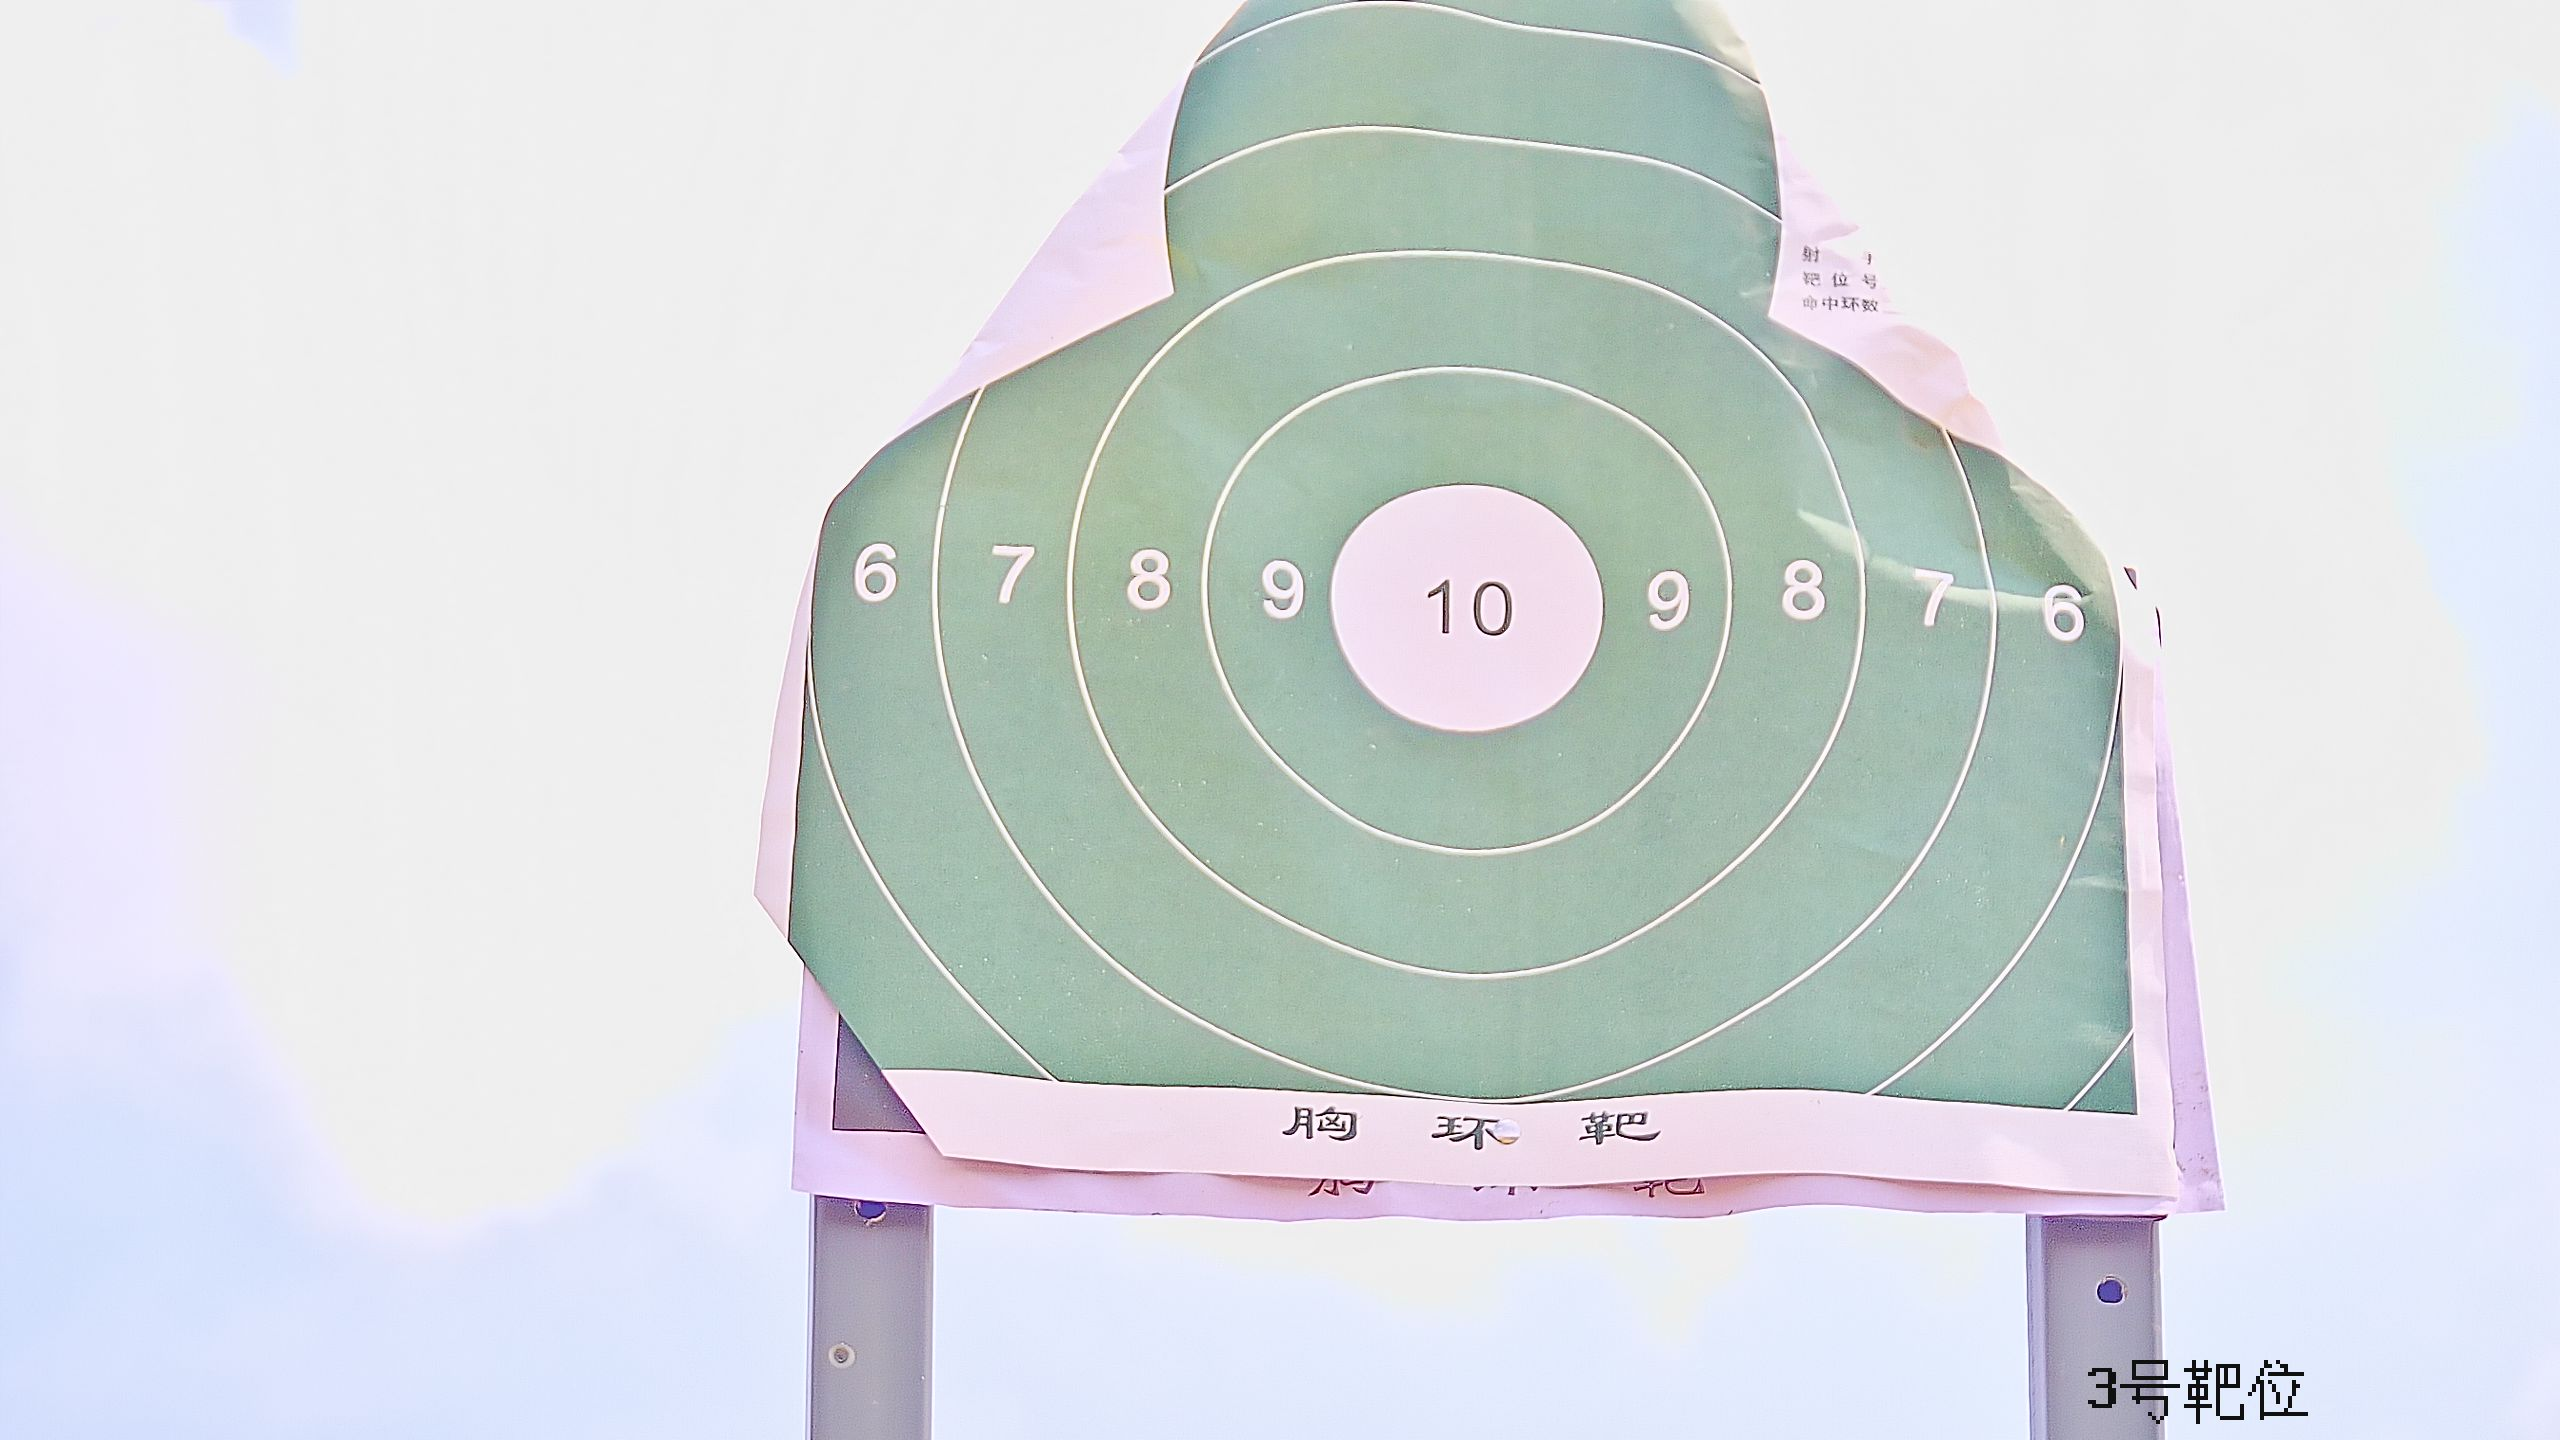target: (789, 5, 2143, 1124), (1459, 610, 1465, 612)
ten: (1327, 485, 1611, 738)
